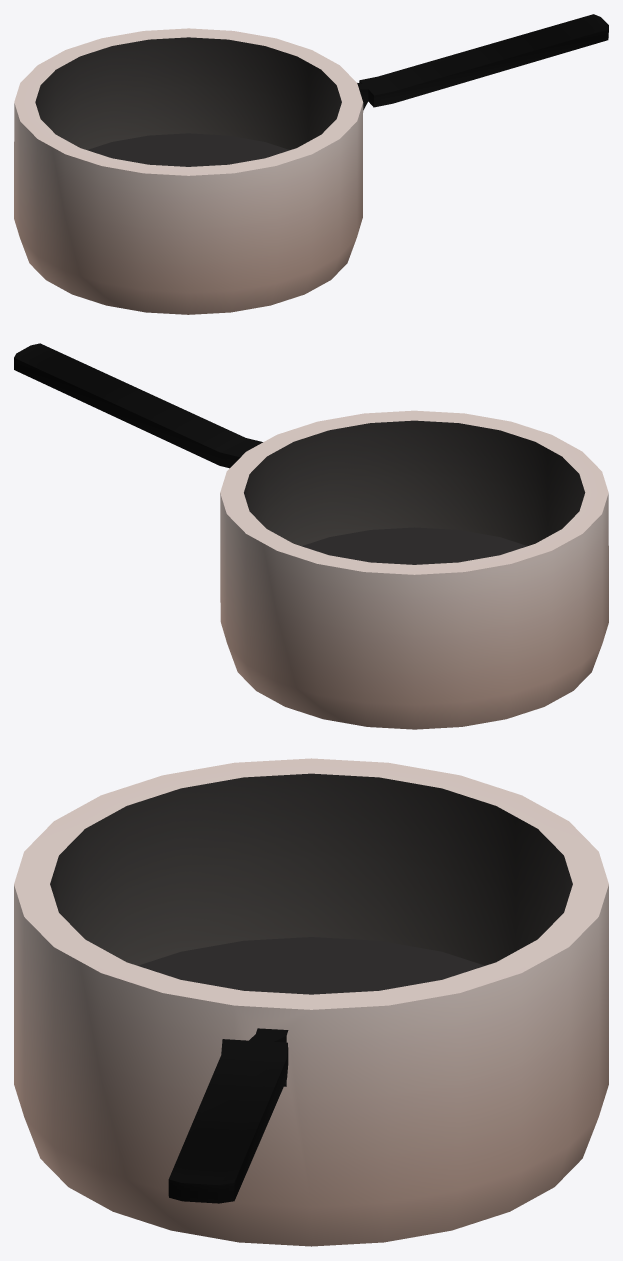
Rendered from Sauce Pan.fbx.
3 views of the same model, one above another, from view 1: azimuth 30°, elevation 25°; view 2: azimuth 150°, elevation 25°; view 3: azimuth 270°, elevation 25° (orthographic). The views are drawn at different scales.
Parts seen in each view (by area): view 1: Sause Pan; view 2: Sause Pan; view 3: Sause Pan.
Part boxes in pixels (x1,y1,x2,y2): Sause Pan: (14,14,608,314); Sause Pan: (14,343,608,729); Sause Pan: (14,758,608,1246).
Size of the model in its own units: 355 by 103 by 200.
